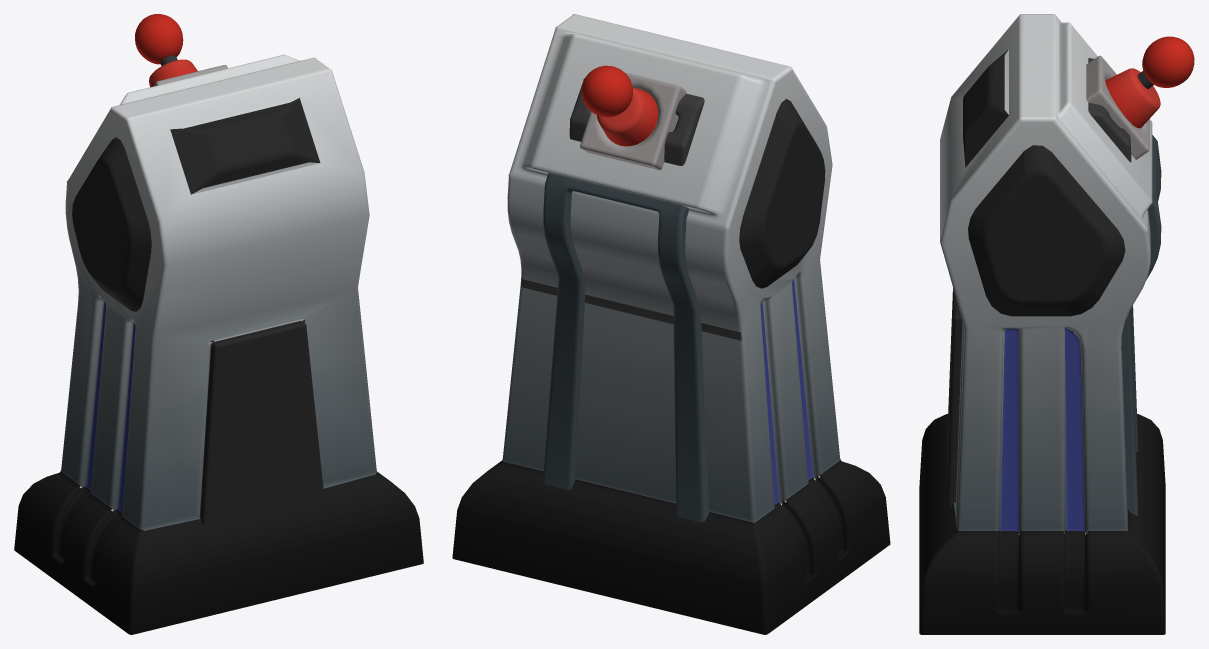
3 views of the same model, side by side, from view 1: azimuth 30°, elevation 25°; view 2: azimuth 150°, elevation 25°; view 3: azimuth 270°, elevation 25° (orthographic). The views are drawn at different scales.
Visible parts, largest first — view 1: Pillar, Richag, Knopka; view 2: Pillar, Ramka_knopka, Ramka_richag, Richag, Knopka; view 3: Pillar, Richag, Ramka_knopka, Knopka, Ramka_richag.
Part boxes in pixels (<box>): Pillar: <box>14,54,423,634</box>; Richag: <box>135,14,183,65</box>; Knopka: <box>149,59,197,87</box>; Pillar: <box>452,14,890,634</box>; Ramka_knopka: <box>580,72,686,169</box>; Ramka_richag: <box>569,78,704,165</box>; Richag: <box>581,65,633,117</box>; Knopka: <box>596,87,658,146</box>; Pillar: <box>919,14,1165,634</box>; Richag: <box>1137,36,1194,89</box>; Ramka_knopka: <box>1086,55,1149,159</box>; Knopka: <box>1105,68,1160,128</box>; Ramka_richag: <box>1088,58,1131,162</box>.
Bounding box in the file's own units: 32.98 × 53.08 × 25.41.
